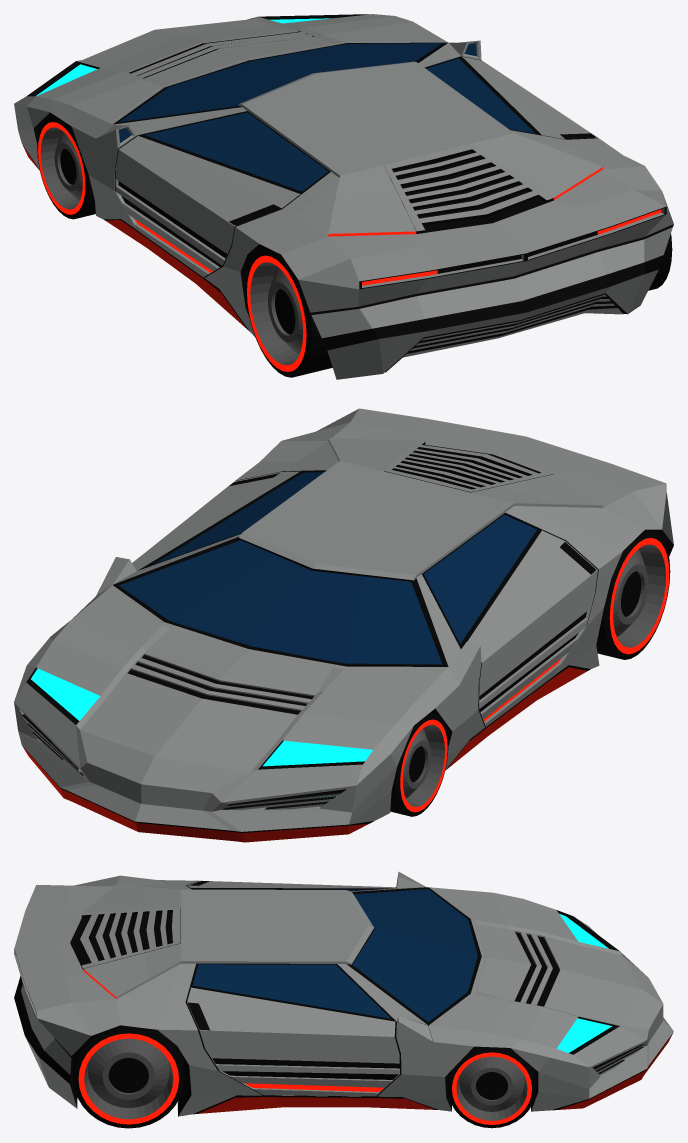
Rendered from low_poly_car.fbx.
The picture shows the model from 3 angles, top to bottom: view 1: azimuth 30°, elevation 25°; view 2: azimuth 150°, elevation 25°; view 3: azimuth 270°, elevation 25°; orthographic projection. The views are drawn at different scales.
Visible parts, largest first — view 1: Car, Wheel.002, Wheel.003; view 2: Car, Wheel.002, Wheel.003; view 3: Car, Wheel, Wheel.001.
Part boxes in pixels (x1,y1,x2,y2): Car: [14, 14, 673, 379]; Wheel.002: [246, 248, 332, 377]; Wheel.003: [37, 116, 95, 219]; Car: [14, 408, 673, 842]; Wheel.002: [596, 530, 670, 659]; Wheel.003: [390, 713, 448, 816]; Car: [14, 871, 673, 1116]; Wheel: [73, 1025, 184, 1128]; Wheel.001: [447, 1046, 536, 1128].
Size of what is drawn, in the model's own units: 589 by 235 by 1092.
